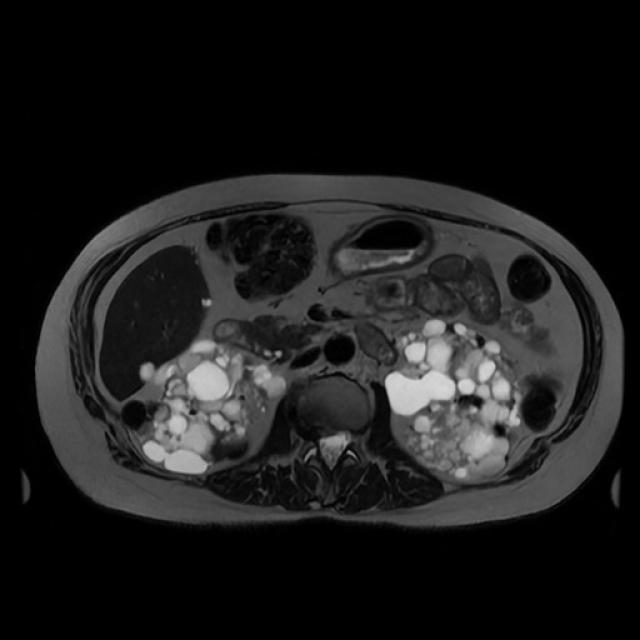sag: (119, 340, 289, 473)
sol: (384, 317, 524, 482)
